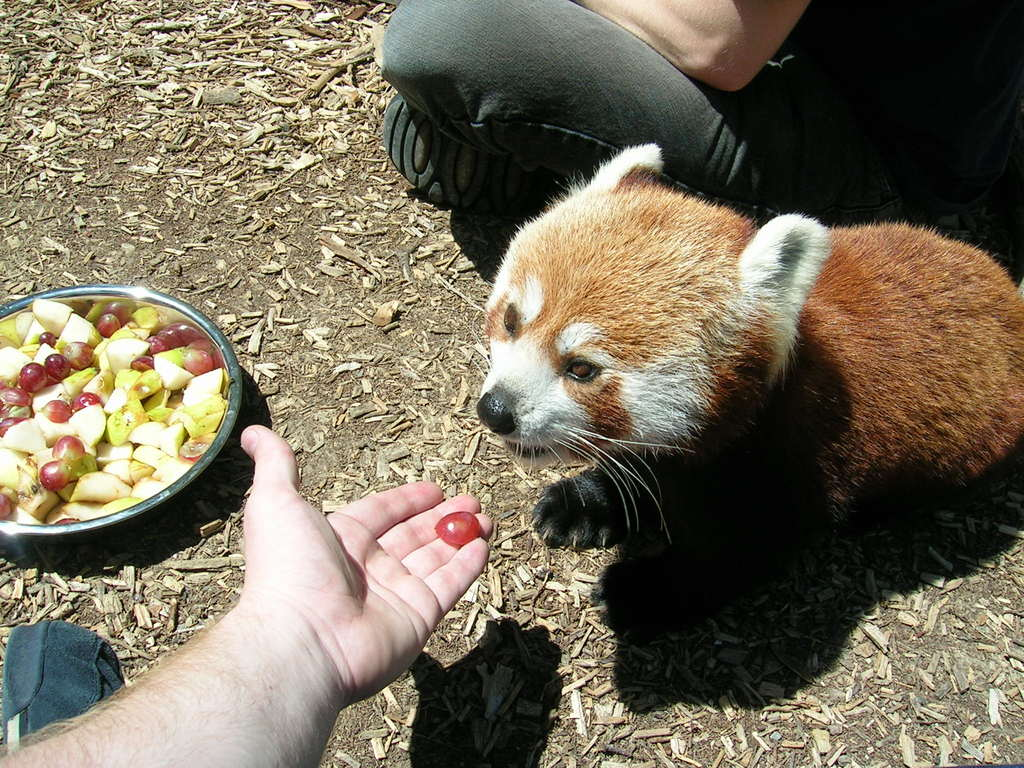Apple: (0, 296, 222, 525)
